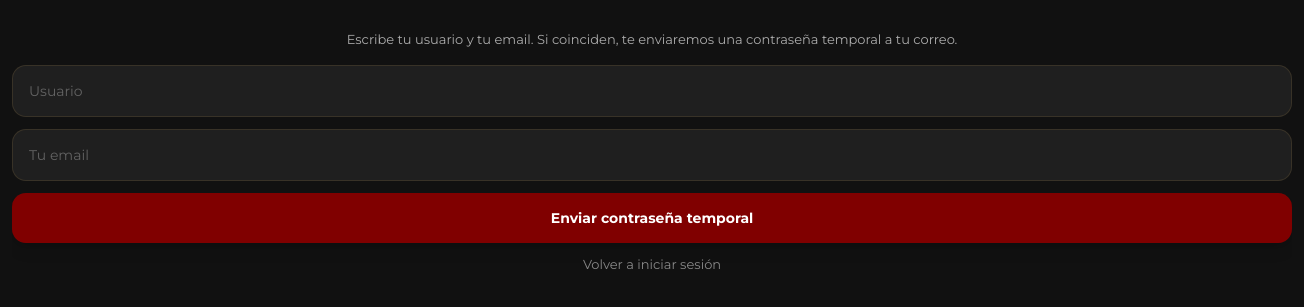
it: ForgotPasswordForm › exige usuario y email antes de enviar
Click the button "Enviar contraseña temporal" at (652, 218), box [12,193,1292,243]
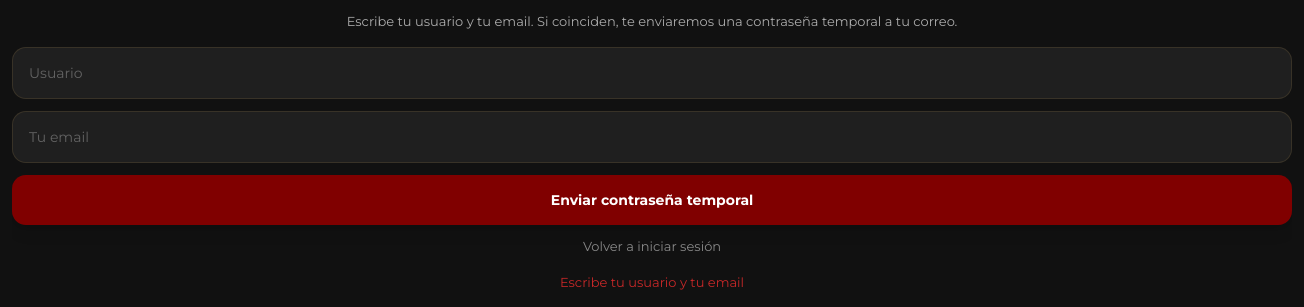
Now the text "Escribe tu usuario y tu email" is shown, box [560,274,744,290]
